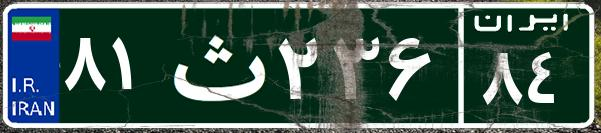1: (110, 28, 158, 105)
2: (273, 28, 330, 110)
3: (330, 28, 385, 110)
4: (525, 38, 570, 115)
6: (385, 28, 445, 110)
8: (57, 26, 110, 107), (475, 38, 525, 113)
ث: (158, 15, 273, 115)
